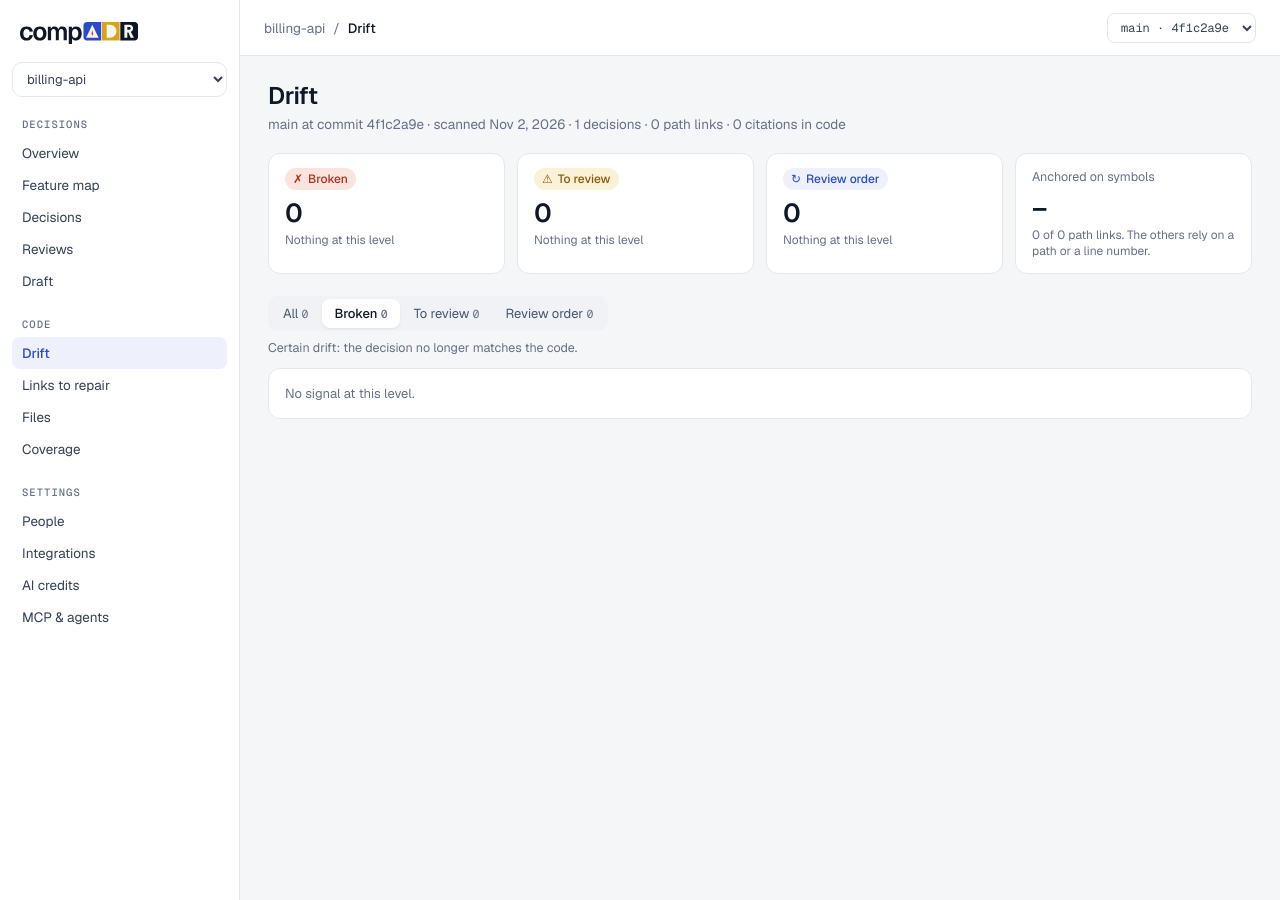
Scenario: reports › counts one decision and one signal in the singular
Check: the text "main at commit 4f1c2a9e" is shown, box [268, 115, 846, 133]
Click the button "Overview". click: coordinates (120, 153)
box: [12, 137, 227, 169]
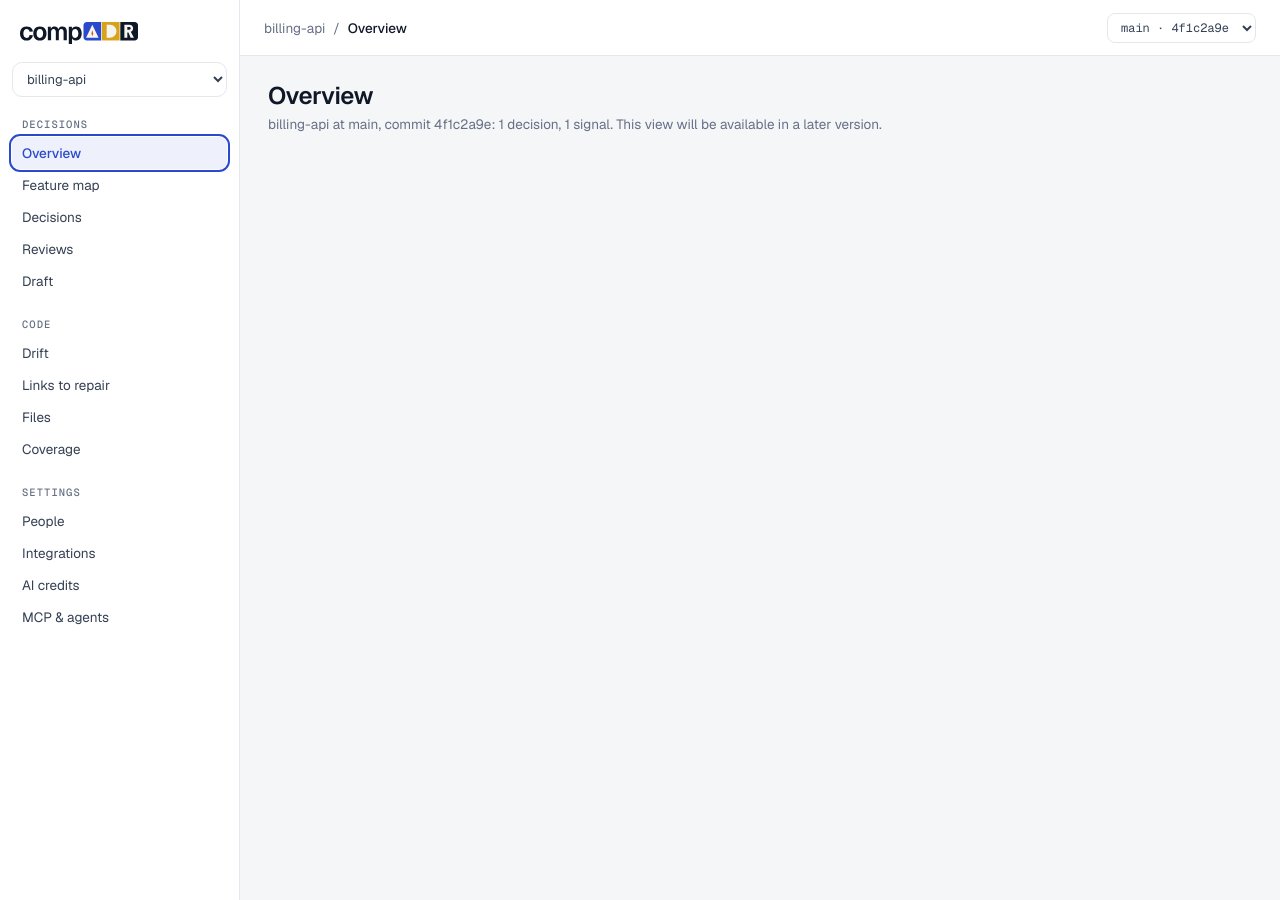
Check: the text with class "content-note" shows ": 1 decision, 1 signal.", box [268, 115, 882, 133]
